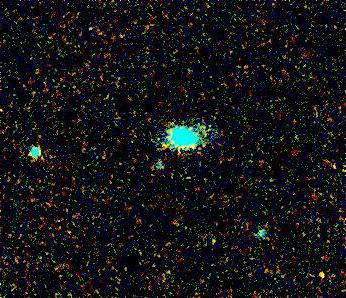star: (308, 259, 338, 289)
